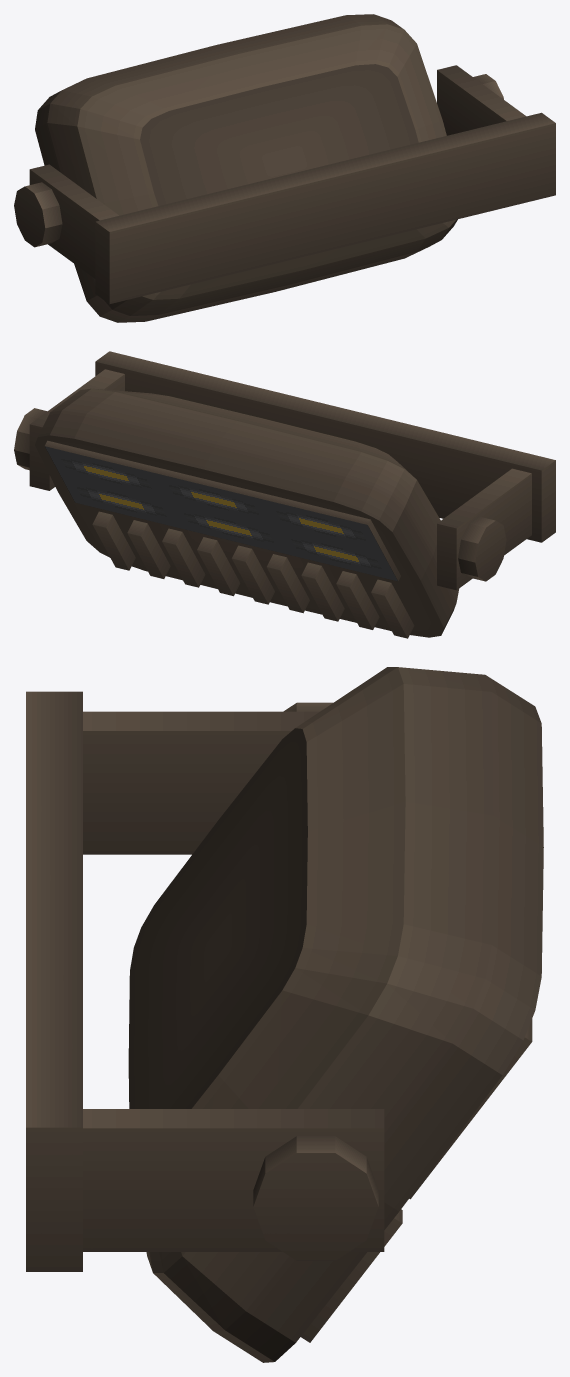
The model's file is floodlight_lithdsxf2yk.obj.
3 views of the same model, one above another, from view 1: azimuth 30°, elevation 25°; view 2: azimuth 150°, elevation 25°; view 3: azimuth 270°, elevation 25° (orthographic). The views are drawn at different scales.
Visible parts, largest first — view 1: fixture; view 2: fixture; view 3: fixture.
Boxes of the visible parts, x1,y1,x2,y2 form: fixture: (14, 14, 555, 322); fixture: (14, 351, 555, 638); fixture: (26, 667, 543, 1362).
Size of the model in its own units: 0.5848 by 0.2545 by 0.2842.
